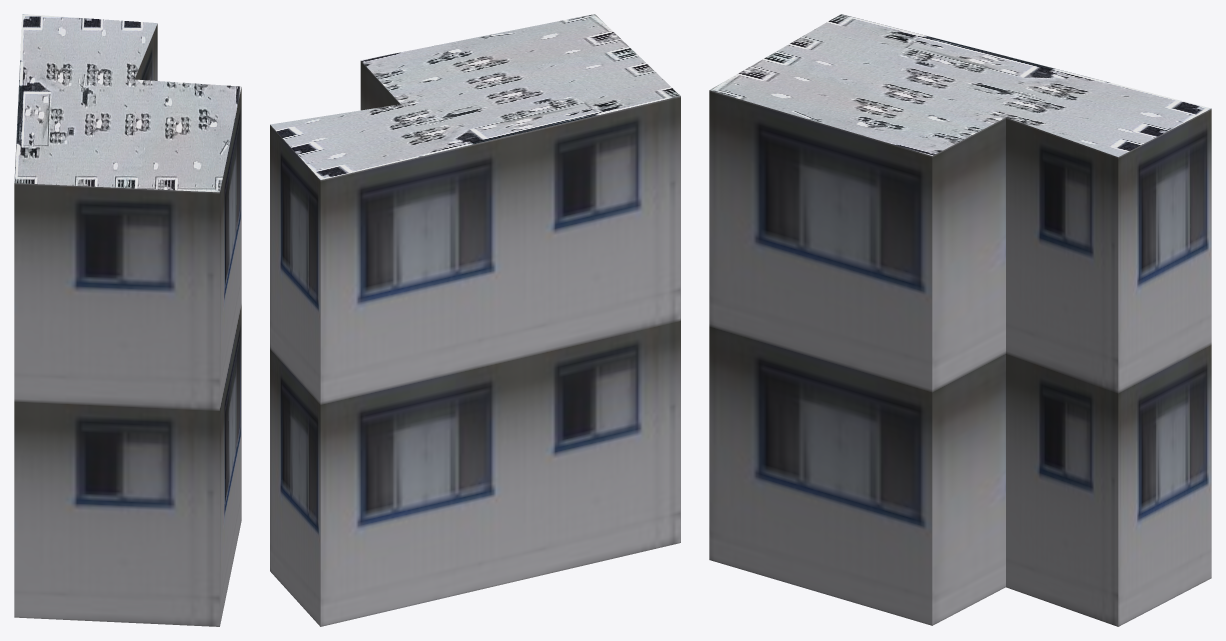
Rendered from ResTex__1929.fbx.
3 views of the same model, side by side, from view 1: azimuth 30°, elevation 25°; view 2: azimuth 150°, elevation 25°; view 3: azimuth 270°, elevation 25° (orthographic). The views are drawn at different scales.
Parts seen in each view (by area): view 1: CityEngineMaterial_9_m, CityEngineMaterial_m; view 2: CityEngineMaterial_9_m, CityEngineMaterial_m; view 3: CityEngineMaterial_9_m, CityEngineMaterial_m.
Boxes of the visible parts, left/top/right/bottom form: CityEngineMaterial_9_m: left=14, top=24, right=241, bottom=626; CityEngineMaterial_m: left=14, top=14, right=241, bottom=192; CityEngineMaterial_9_m: left=270, top=61, right=680, bottom=626; CityEngineMaterial_m: left=270, top=14, right=680, bottom=179; CityEngineMaterial_9_m: left=709, top=90, right=1211, bottom=626; CityEngineMaterial_m: left=709, top=14, right=1211, bottom=156.
Bounding box in the file's own units: 3.92 × 6 × 5.81.
2 materials, 2 textured.
